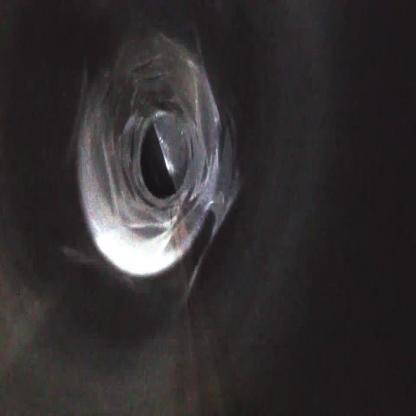Crack: (74, 30, 240, 279)
